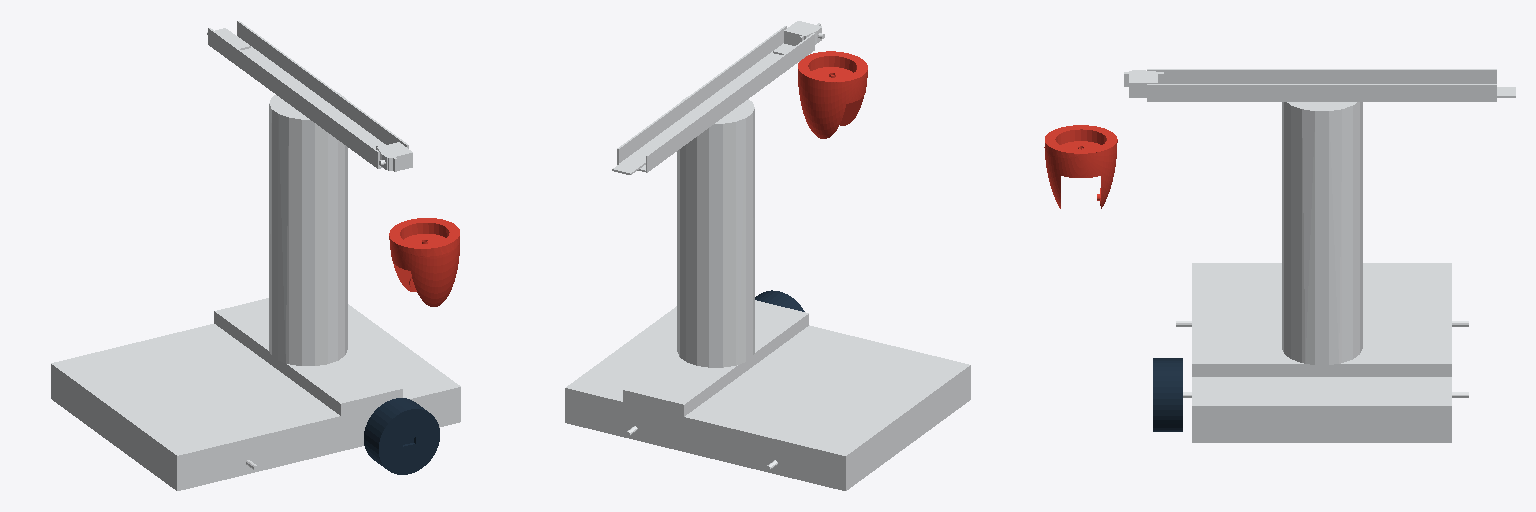
URDF robot description (ardop_description_02):
<?xml version="1.0" encoding="UTF-8"?>
<robot
	name="ardop_description_02">
	<link
		name="base_link">
		<inertial>
			<origin
				xyz="-0.05669211 -0.00059544 0.13127776"
				rpy="0 0 0" />
			<mass
				value="6" />
			<inertia
				ixx="0.000324"
				ixy="0.000000"
				ixz="-0.000054"
				iyy="0.000398"
				iyz="-0.018212"
				izz="0.000293" />
		</inertial>
		<visual>
			<origin
				xyz="0 0 0"
				rpy="0 0 0" />
			<geometry>
				<mesh
					filename="package://ardop_description_02/meshes/base_link.STL" />
			</geometry>
			<material
				name="cream">
				<color
					rgba="0.93 0.94 0.95 1" />
			</material>
		</visual>
		<collision>
			<origin
				xyz="0 0 0"
				rpy="0 0 0" />
			<geometry>
				<mesh
					filename="package://ardop_description_02/meshes/base_link.STL" />
			</geometry>
		</collision>
	</link>

	<link
		name="wheel_front_left_link">
		<inertial>
			<origin
				xyz="0 0.02096815 0"
				rpy="0 0 0" />
			<mass
				value="0.4" />
			<inertia
				ixx="0"
				ixy="0"
				ixz="0"
				iyy="0"
				iyz="0"
				izz="0" />
		</inertial>
		<visual>
			<origin
				xyz="0 0 0"
				rpy="0 0 0" />
			<geometry>
				<mesh
					filename="package://ardop_description_02/meshes/wheel_front_left_link.STL" />
			</geometry>
			<material
				name="dark_blue">
				<color
					rgba="0.17 0.24 0.31 1" />
			</material>
		</visual>
		<collision>
			<origin
				xyz="0 0 0"
				rpy="0 0 0" />
			<geometry>
				<mesh
					filename="package://ardop_description_02/meshes/wheel_front_left_link.STL" />
			</geometry>
		</collision>
	</link>

	<joint
		name="wheel_front_left_joint"
		type="continuous">
		<origin
			xyz="0.03 0.1895 0.05"
			rpy="0 0 0" />
		<parent
			link="base_link" />
		<child
			link="wheel_front_left_link" />
		<axis
			xyz="0 1 0" />
		<limit
			effort="100"
			velocity="100" />
		<safety_controller
			k_velocity="10" />
	</joint>

	<link
		name="wheel_front_right_link">
		<inertial>
			<origin
				xyz="0 -0.02096815 0"
				rpy="0 0 0" />
			<mass
				value="0.4" />
			<inertia
				ixx="0"
				ixy="0"
				ixz="0"
				iyy="0"
				iyz="0"
				izz="0" />
		</inertial>
		<visual>
			<origin
				xyz="0 0 0"
				rpy="0 0 0" />
			<geometry>
				<mesh
					filename="package://ardop_description_02/meshes/wheel_front_right_link.STL" />
			</geometry>
			<material
				name="dark_blue">
				<color
					rgba="0.17 0.24 0.31 1" />
			</material>
		</visual>
		<collision>
			<origin
				xyz="0 0 0"
				rpy="0 0 0" />
			<geometry>
				<mesh
					filename="package://ardop_description_02/meshes/wheel_front_right_link.STL" />
			</geometry>
		</collision>
	</link>

	<joint
		name="wheel_front_right_joint"
		type="continuous">
		<origin
			xyz="0.03 -0.1895 0.05"
			rpy="0 0 0" />
		<parent
			link="base_link" />
		<child
			link="wheel_front_right_link" />
		<axis
			xyz="0 1 0" />
		<limit
			effort="100"
			velocity="100" />
		<safety_controller
			k_velocity="10" />
	</joint>

	<link
		name="wheel_back_left_link">
		<inertial>
			<origin
				xyz="0 0.02096815 0"
				rpy="0 0 0" />
			<mass
				value="0.4" />
			<inertia
				ixx="0"
				ixy="0"
				ixz="0"
				iyy="0"
				iyz="0"
				izz="0" />
		</inertial>
		<visual>
			<origin
				xyz="0 0 0"
				rpy="0 0 0" />
			<geometry>
				<mesh
					filename="package://ardop_description_02/meshes/wheel_back_left_link.STL" />
			</geometry>
			<material
				name="dark_blue">
				<color
					rgba="0.17 0.24 0.31 1" />
			</material>
		</visual>
		<collision>
			<origin
				xyz="0 0 0"
				rpy="0 0 0" />
			<geometry>
				<mesh
					filename="package://ardop_description_02/meshes/wheel_back_left_link.STL" />
			</geometry>
		</collision>
	</link>

	<joint
		name="wheel_back_left_joint"
		type="continuous">
		<origin
			xyz="-0.2 0.1895 0.05"
			rpy="0 0 0" />
		<parent
			link="base_link" />
		<child
			link="wheel_back_left_link" />
		<axis
			xyz="0 1 0" />
		<limit
			effort="100"
			velocity="100" />
		<safety_controller
			k_velocity="10" />
	</joint>

	<link
		name="wheel_back_right_link">
		<inertial>
			<origin
				xyz="0 -0.02096815 0"
				rpy="0 0 0" />
			<mass
				value="0.4" />
			<inertia
				ixx="0"
				ixy="0"
				ixz="0"
				iyy="0"
				iyz="0"
				izz="0" />
		</inertial>
		<visual>
			<origin
				xyz="0 0 0"
				rpy="0 0 0" />
			<geometry>
				<mesh
					filename="package://ardop_description_02/meshes/wheel_back_right_link.STL" />
			</geometry>
			<material
				name="dark_blue">
				<color
					rgba="0.17 0.24 0.31 1" />
			</material>
		</visual>
		<collision>
			<origin
				xyz="0 0 0"
				rpy="0 0 0" />
			<geometry>
				<mesh
					filename="package://ardop_description_02/meshes/wheel_back_right_link.STL" />
			</geometry>
		</collision>
	</link>

	<joint
		name="wheel_back_right_joint"
		type="continuous">
		<origin
			xyz="-0.2 -0.1895 0.05"
			rpy="0 0 0" />
		<parent
			link="base_link" />
		<child
			link="wheel_back_right_link" />
		<axis
			xyz="0 1 0" />
		<limit
			effort="100"
			velocity="100" />
		<safety_controller
			k_velocity="10" />
	</joint>

	<link
		name="shoulder_1_link">
		<inertial>
			<origin
				xyz="0.02786329 -0.03558158 0.00339449" 
				rpy="0 0 0" />
			<mass
				value="0.239718" />
			<inertia
				ixx="0.0"
				ixy="0.0"
				ixz="0.0"
				iyy="0.0"
				iyz="0.0"
				izz="0.0" />
		</inertial>
		<visual>
			<origin
				xyz="0 0 0"
				rpy="0 0 0" />
			<geometry>
				<mesh
					filename="package://ardop_description_02/meshes/shoulder_1_link.STL" />
			</geometry>
			<material
				name="red">
				<color
					rgba="0.91 0.3 0.24 1" />
			</material>
		</visual>
		<collision>
			<origin
				xyz="0 0 0"
				rpy="0 0 0" />
			<geometry>
				<mesh
					filename="package://ardop_description_02/meshes/shoulder_1_link.STL" />
			</geometry>
		</collision>
	</link>

	<joint
		name="shoulder_1_joint"
		type="revolute">
		<origin
			xyz="-0.0281 -0.25288 0.504"
			rpy="0 0 0" />
		<parent
			link="base_link" />
		<child
			link="shoulder_1_link" />
		<axis
			xyz="1 0 0" />
		<limit
			effort="30"
			velocity="3"
			lower="-1.5708"
			upper="1.5708" />
		<dynamics 
			damping="50" 
			friction="1" />
	</joint>

	<link
		name="upper_1_link">
		<inertial>
			<origin
				xyz="-0.00002823 -0.01138195 -0.05092308"
				rpy="0 0 0" />
			<mass
				value="0.158253" />
			<inertia
				ixx="0.0"
				ixy="0.0"
				ixz="0.0"
				iyy="0.0"
				iyz="0.0"
				izz="0.0" />
		</inertial>
		<visual>
			<origin
				xyz="0 0 0"
				rpy="0 0 0" />
			<geometry>
				<mesh
					filename="package://ardop_description_02/meshes/upper_1_link.STL" />
			</geometry>
			<material
				name="red">
				<color
					rgba="0.91 0.3 0.24 1" />
			</material>
		</visual>
		<collision>
			<origin
				xyz="0 0 0"
				rpy="0 0 0" />
			<geometry>
				<mesh
					filename="package://ardop_description_02/meshes/upper_1_link.STL" />
			</geometry>
		</collision>
	</link>

	<joint
		name="upper_1_joint"
		type="revolute">
		<origin
			xyz="0.027024 -0.075963 0.0044026"
			rpy="0 0 0" />
		<parent
			link="shoulder_1_link" />
		<child
			link="upper_1_link" />
		<axis
			xyz="0 1 0" />
		<limit
			effort="30"
			velocity="3"
			lower="-1.5708"
			upper="1.5708" />
		<dynamics 
			damping="50" 
			friction="1" />
	</joint>

	<link
		name="upper_2_link">
		<inertial>
			<origin
				xyz="0.00054343 -0.00051038 -0.01584260"
				rpy="0 0 0" />
			<mass
				value="0.076206" />
			<inertia
				ixx="0.0"
				ixy="0.0"
				ixz="-0.0"
				iyy="0.0"
				iyz="-0.0"
				izz="0.0" />
		</inertial>
		<visual>
			<origin
				xyz="0 0 0"
				rpy="0 0 0" />
			<geometry>
				<mesh
					filename="package://ardop_description_02/meshes/upper_2_link.STL" />
			</geometry>
			<material
				name="red">
				<color
					rgba="0.91 0.3 0.24 1" />
			</material>
		</visual>
		<collision>
			<origin
				xyz="0 0 0"
				rpy="0 0 0" />
			<geometry>
				<mesh
					filename="package://ardop_description_02/meshes/upper_2_link.STL" />
			</geometry>
		</collision>
	</link>

	<joint
		name="upper_2_joint"
		type="revolute">
		<origin
			xyz="9.3209E-05 0 -0.10405"
			rpy="0 0 0" />
		<parent
			link="upper_1_link" />
		<child
			link="upper_2_link" />
		<axis
			xyz="0 0 1" />
		<limit
			effort="30"
			velocity="3"
			lower="-1.5708"
			upper="1.5708" />
		<dynamics 
			damping="50" 
			friction="1" />
	</joint>

	<link
		name="lower_1_link">
		<inertial>
			<origin
				xyz="0 -0.03002602 -0.06443806"
				rpy="0 0 0" />
			<mass
				value="0.2241" />
			<inertia
				ixx="0.0"
				ixy="0"
				ixz="0"
				iyy="0.000001"
				iyz="-0.0"
				izz="0.0" />
		</inertial>
		<visual>
			<origin
				xyz="0 0 0"
				rpy="0 0 0" />
			<geometry>
				<mesh
					filename="package://ardop_description_02/meshes/lower_1_link.STL" />
			</geometry>
			<material
				name="red">
				<color
					rgba="0.91 0.3 0.24 1" />
			</material>
		</visual>
		<collision>
			<origin
				xyz="0 0 0"
				rpy="0 0 0" />
			<geometry>
				<mesh
					filename="package://ardop_description_02/meshes/lower_1_link.STL" />
			</geometry>
		</collision>
	</link>

	<joint
		name="lower_1_joint"
		type="revolute">
		<origin
			xyz="0.0024117 0.025054 -0.070238"
			rpy="0 0 0" />
		<parent
			link="upper_2_link" />
		<child
			link="lower_1_link" />
		<axis
			xyz="0 1 0" />
		<limit
			effort="30"
			velocity="3"
			lower="-1.5708"
			upper="1.5708" />
		<dynamics 
			damping="50" 
			friction="1" />
	</joint>

	<link
		name="lower_2_link">
		<inertial>
			<origin
				xyz="-0.00122183 -0.00357756 -0.05944029"
				rpy="0 0 0" />
			<mass
				value="0.178" />
			<inertia
				ixx="0.000002"
				ixy="-0.0"
				ixz="-0.0"
				iyy="0.000002"
				iyz="-0.0"
				izz="0.0" />
		</inertial>
		<visual>
			<origin
				xyz="0 0 0"
				rpy="0 0 0" />
			<geometry>
				<mesh
					filename="package://ardop_description_02/meshes/lower_2_link.STL" />
			</geometry>
			<material
				name="red">
				<color
					rgba="0.91 0.3 0.24 1" />
			</material>
		</visual>
		<collision>
			<origin
				xyz="0 0 0"
				rpy="0 0 0" />
			<geometry>
				<mesh
					filename="package://ardop_description_02/meshes/lower_2_link.STL" />
			</geometry>
		</collision>
	</link>

	<joint
		name="lower_2_joint"
		type="revolute">
		<origin
			xyz="0 -0.030211 -0.12948"
			rpy="0 0 0" />
		<parent
			link="lower_1_link" />
		<child
			link="lower_2_link" />
		<axis
			xyz="0 0 1" />
		<limit
			effort="30"
			velocity="3"
			lower="-1.5708"
			upper="1.5708" />
		<dynamics 
			damping="50" 
			friction="1" />
	</joint>

	<link
		name="end_effector_link">
		<inertial>
			<origin
				xyz="-0.01777538 0.01874637 -0.04534066"
				rpy="0 0 0" />
			<mass
				value="0.010303" />
			<inertia
				ixx="0.0"
				ixy="0.0"
				ixz="-0.0"
				iyy="0.0"
				iyz="0.0"
				izz="0.0" />
		</inertial>
		<visual>
			<origin
				xyz="0 0 0"
				rpy="0 0 0" />
			<geometry>
				<mesh
					filename="package://ardop_description_02/meshes/end_effector_link.STL" />
			</geometry>
			<material
				name="blue">
				<color
					rgba="0.2 0.6 0.86 1" />
			</material>
		</visual>
		<collision>
			<origin
				xyz="0 0 0"
				rpy="0 0 0" />
			<geometry>
				<mesh
					filename="package://ardop_description_02/meshes/end_effector_link.STL" />
			</geometry>
		</collision>
	</link>

	<joint
		name="end_effector_joint"
		type="revolute">
		<origin
			xyz="0.020552 0.011541 -0.12357"
			rpy="0 0 0" />
		<parent
			link="lower_2_link" />
		<child
			link="end_effector_link" />
		<axis
			xyz="1 0 0" />
		<limit
			effort="30"
			velocity="3"
			lower="-0.6"
			upper="1.5708" />
		<dynamics 
			damping="50" 
			friction="1" />
	</joint>
 
	<gazebo reference="base_link">
		<mu1 value="0.7"/>
		<mu2 value="0.7"/>
		<kp value="10000000.0"/>
		<kd value="1.0"/>
		<material>Gazebo/White</material>
		<turnGravityOff>false</turnGravityOff>
	</gazebo>

	<gazebo reference="wheel_front_left_link">
		<mu1 value="0.7"/>
		<mu2 value="0.7"/>
		<kp value="10000000.0"/>
		<kd value="1.0"/>
		<fdir1 value="1 0 0"/>
		<material>Gazebo/Grey</material>
		<turnGravityOff>false</turnGravityOff>
	</gazebo>

	<gazebo reference="wheel_front_right_link">
		<mu1 value="0.7"/>
		<mu2 value="0.7"/>
		<kp value="10000000.0"/>
		<kd value="1.0"/>
		<fdir1 value="1 0 0"/>
		<material>Gazebo/Grey</material>
		<turnGravityOff>false</turnGravityOff>
	</gazebo>

	<gazebo reference="wheel_back_left_link">
		<mu1 value="0.7"/>
		<mu2 value="0.7"/>
		<kp value="10000000.0"/>
		<kd value="1.0"/>
		<fdir1 value="1 0 0"/>
		<material>Gazebo/Grey</material>
		<turnGravityOff>false</turnGravityOff>
	</gazebo>

	<gazebo reference="wheel_back_right_link">
		<mu1 value="0.7"/>
		<mu2 value="0.7"/>
		<kp value="10000000.0"/>
		<kd value="1.0"/>
		<fdir1 value="1 0 0"/>
		<material>Gazebo/Grey</material>
		<turnGravityOff>false</turnGravityOff>
	</gazebo>

	<transmission name="wheel_front_left_joint_trans">
		<type>transmission_interface/SimpleTransmission</type>
		<joint 
			name="wheel_front_left_joint" />
		<actuator 
			name="wheel_front_left_motor">
			<hardwareInterface>EffortJointInterface</hardwareInterface>
			<mechanicalReduction>1</mechanicalReduction>
		</actuator>
	</transmission>

	<transmission name="wheel_front_right_joint_trans">
		<type>transmission_interface/SimpleTransmission</type>
		<joint 
			name="wheel_front_right_joint" />
		<actuator 
			name="wheel_front_right_motor">
			<hardwareInterface>EffortJointInterface</hardwareInterface>
			<mechanicalReduction>1</mechanicalReduction>
		</actuator>
	</transmission>

	<transmission name="wheel_back_left_joint_trans">
		<type>transmission_interface/SimpleTransmission</type>
		<joint 
			name="wheel_back_left_joint" />
		<actuator 
			name="wheel_back_left_motor">
			<hardwareInterface>EffortJointInterface</hardwareInterface>
			<mechanicalReduction>1</mechanicalReduction>
		</actuator>
	</transmission>

	<transmission name="wheel_back_right_joint_trans">
		<type>transmission_interface/SimpleTransmission</type>
		<joint 
			name="wheel_back_right_joint" />
		<actuator 
			name="wheel_back_right_motor">
			<hardwareInterface>EffortJointInterface</hardwareInterface>
			<mechanicalReduction>1</mechanicalReduction>
		</actuator>
	</transmission>

	 <gazebo reference="shoulder_1_link">
		<mu1 value="0.7"/>
		<mu2 value="0.7"/>
		<kp value="10000000.0"/>
		<kd value="1.0"/>
		<material>Gazebo/Red</material>
		<turnGravityOff>false</turnGravityOff>
	</gazebo>

	<gazebo reference="upper_1_link">
		<mu1 value="0.7"/>
		<mu2 value="0.7"/>
		<kp value="10000000.0"/>
		<kd value="1.0"/>
		<material>Gazebo/Red</material>
		<turnGravityOff>false</turnGravityOff>
	</gazebo>

	<gazebo reference="upper_2_link">
		<mu1 value="0.7"/>
		<mu2 value="0.7"/>
		<kp value="10000000.0"/>
		<kd value="1.0"/>
		<material>Gazebo/Red</material>
		<turnGravityOff>false</turnGravityOff>
	</gazebo>

	<gazebo reference="lower_1_link">
		<mu1 value="0.7"/>
		<mu2 value="0.7"/>
		<kp value="10000000.0"/>
		<kd value="1.0"/>
		<material>Gazebo/Red</material>
		<turnGravityOff>false</turnGravityOff>
	</gazebo>

	<gazebo reference="lower_2_link">
		<mu1 value="0.7"/>
		<mu2 value="0.7"/>
		<kp value="10000000.0"/>
		<kd value="1.0"/>
		<material>Gazebo/Red</material>
		<turnGravityOff>false</turnGravityOff>
	</gazebo>

	<gazebo reference="end_effector_link">
		<mu1 value="0.7"/>
		<mu2 value="0.7"/>
		<kp value="10000000.0"/>
		<kd value="1.0"/>
		<material>Gazebo/Blue</material>
		<turnGravityOff>false</turnGravityOff>
	</gazebo> 

</robot>

--- Facts derived from the render (not from the file) ---
The picture shows the robot from 3 angles, left to right: view 1: azimuth 30°, elevation 25°; view 2: azimuth 150°, elevation 25°; view 3: azimuth 270°, elevation 25°; orthographic projection.
Robot: ardop_description_02 — 11 links, 10 joints (6 revolute, 4 continuous); root link base_link; default pose: every joint at zero.
Visible links, largest first — view 1: base_link, upper_2_link, wheel_front_right_link; view 2: base_link, upper_2_link, wheel_front_right_link; view 3: base_link, upper_2_link, wheel_front_right_link.
Boxes of the visible links, <box> form: base_link: <box>51,21,460,490</box>; upper_2_link: <box>389,218,459,306</box>; wheel_front_right_link: <box>364,398,439,474</box>; base_link: <box>565,21,970,490</box>; upper_2_link: <box>798,51,867,138</box>; wheel_front_right_link: <box>755,290,804,311</box>; base_link: <box>1124,69,1515,442</box>; upper_2_link: <box>1044,125,1117,208</box>; wheel_front_right_link: <box>1153,358,1182,431</box>.
Bounding box of the posed robot: 0.46 × 0.6423 × 0.5138 m (x, y, z).
3 mesh visuals loaded from 11 distinct referenced files (3 binary STL); not drawn: 8 (reference not matched to a file when rendering).